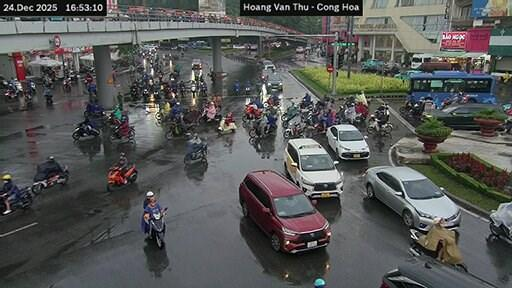motorbike: (409, 225, 467, 270), (31, 166, 67, 193), (489, 202, 511, 239), (108, 162, 137, 190), (147, 208, 165, 247), (165, 121, 195, 139), (9, 187, 32, 210), (71, 121, 99, 139), (365, 115, 389, 133), (185, 144, 207, 163), (108, 126, 134, 142), (282, 121, 304, 138), (248, 124, 275, 136), (243, 104, 261, 121), (217, 117, 236, 133), (198, 108, 220, 121), (304, 122, 326, 135), (103, 112, 120, 127), (83, 103, 103, 115), (262, 95, 280, 107), (399, 99, 412, 113), (3, 89, 18, 99), (24, 90, 32, 107), (141, 86, 149, 102), (26, 80, 35, 94), (63, 77, 70, 90), (189, 82, 195, 97), (45, 88, 51, 103), (131, 85, 137, 99), (199, 85, 207, 95), (0, 199, 5, 214), (243, 85, 250, 94), (233, 84, 239, 94)
